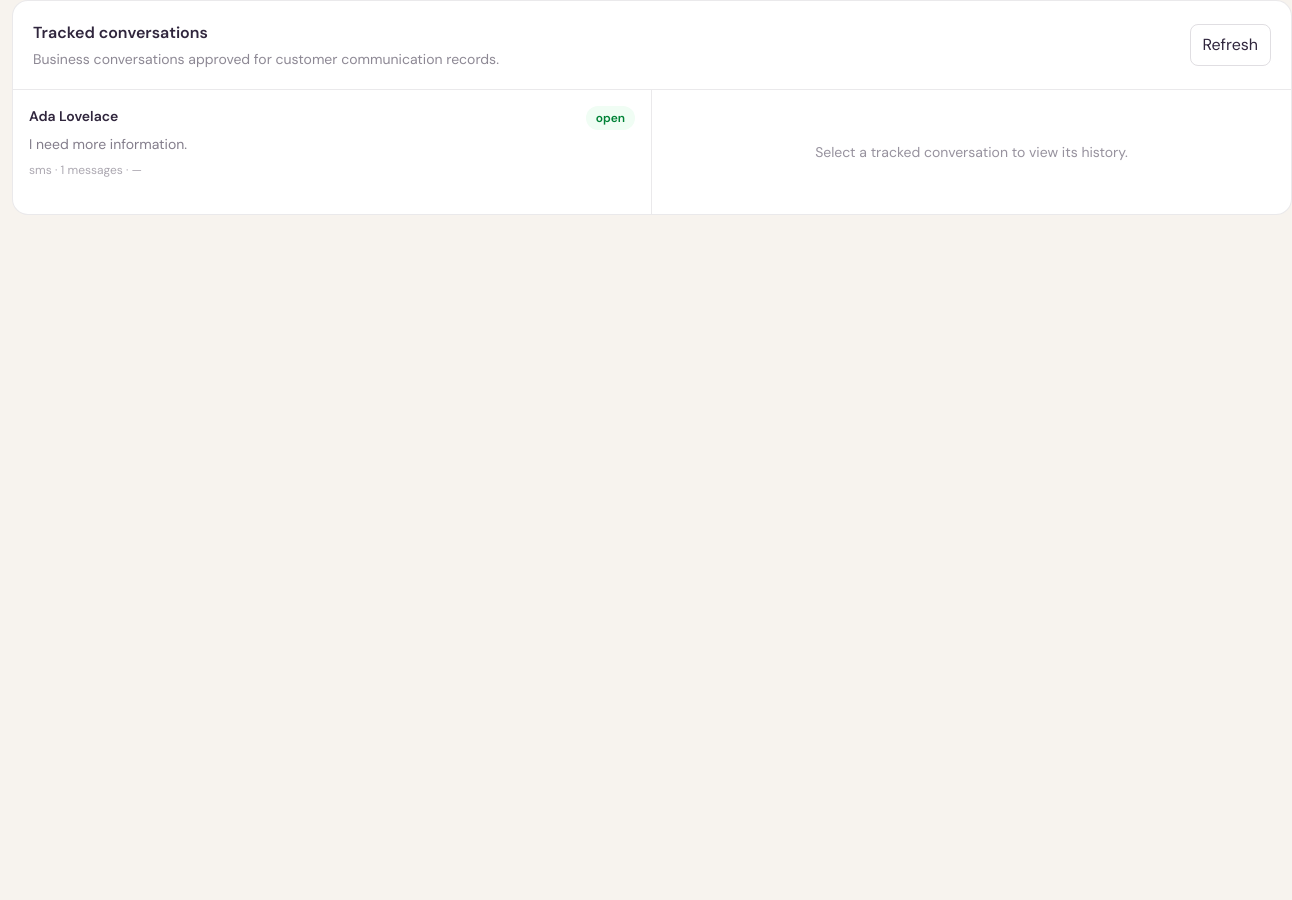
Scenario: ConversationWorkspace replies › requires an email subject and sends the email payload
Later steps or results of the test are not shown.
Click the button "Ada Lovelace" at {"x": 74, "y": 116}, box x1=13 y1=90 x2=651 y2=194
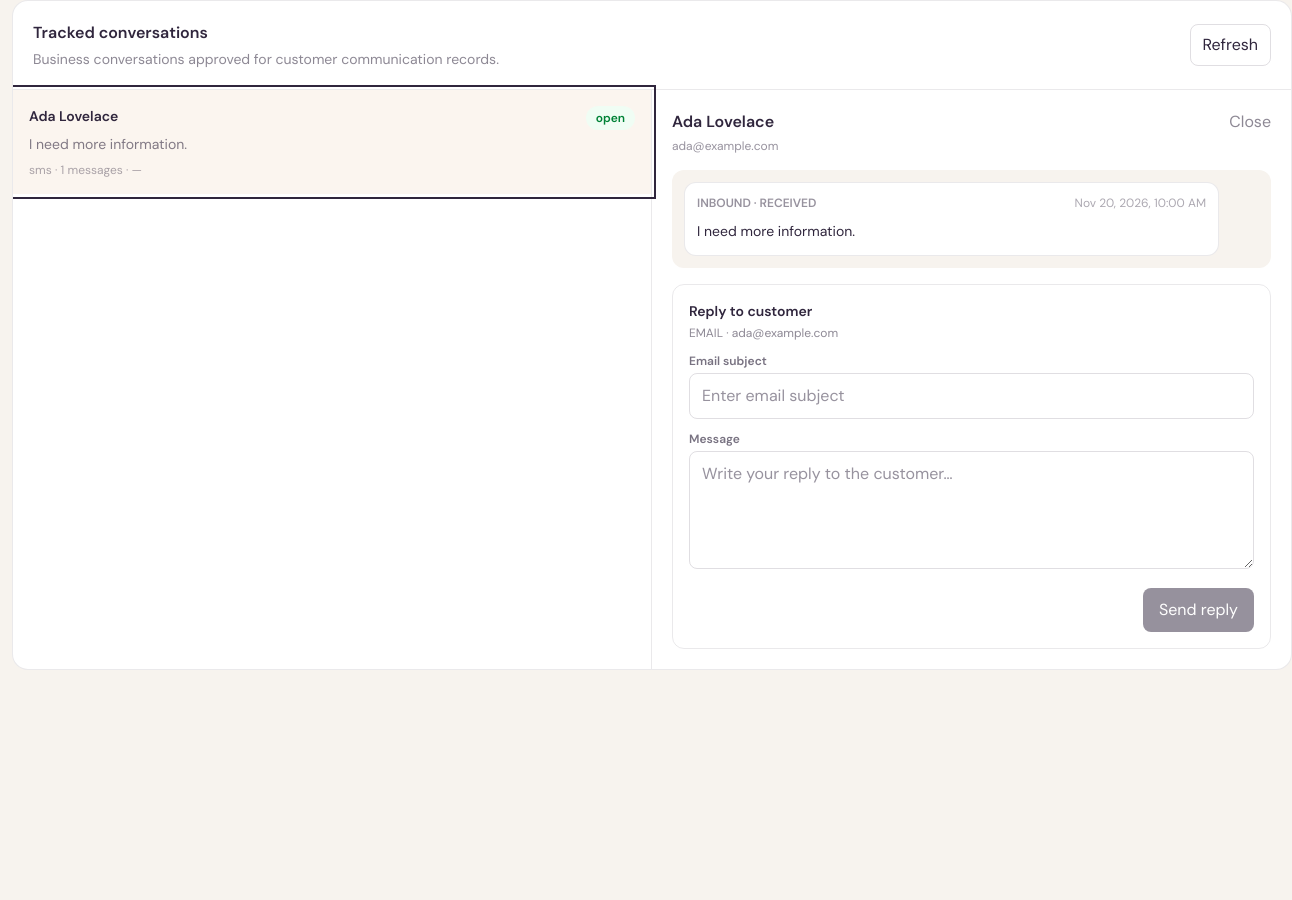
Result: the heading "Reply to customer" is shown at x1=689 y1=302 x2=812 y2=320
Result: the button "Send reply" is disabled at x1=1143 y1=588 x2=1254 y2=632
Type "Your enquiry" into the field labelled "Email subject" at {"x": 972, "y": 396}, box x1=689 y1=373 x2=1254 y2=419
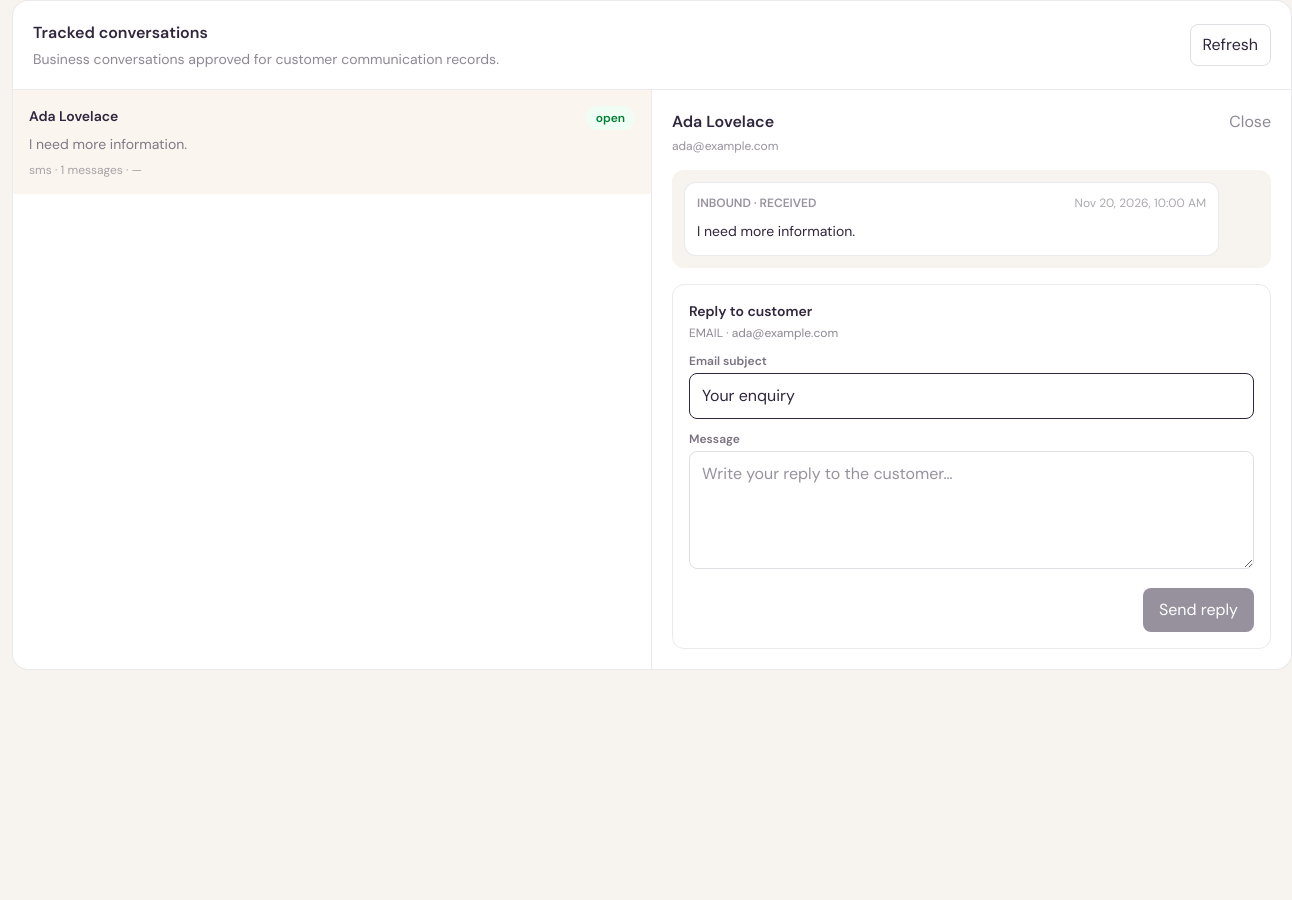
Type "We will be happy to assist." into the text box labelled "Message" at {"x": 972, "y": 510}, box x1=689 y1=451 x2=1254 y2=569
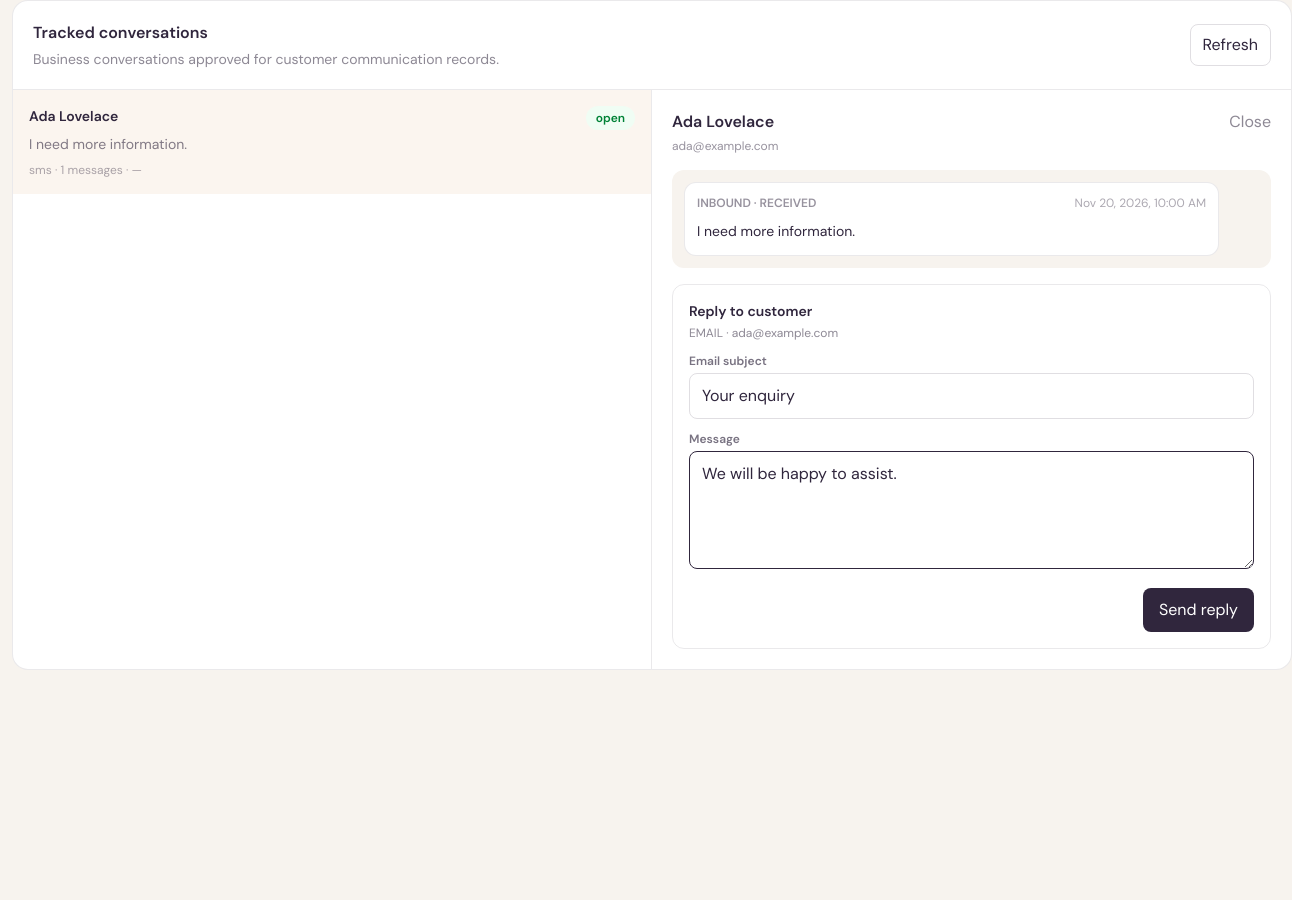
Result: the button "Send reply" is enabled at x1=1143 y1=588 x2=1254 y2=632
